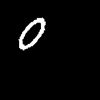chain: (19, 18, 44, 49)
